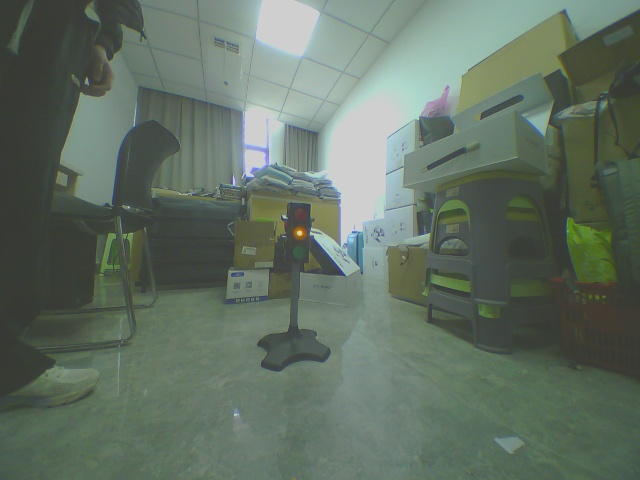Yellow: (272, 189, 324, 280)
